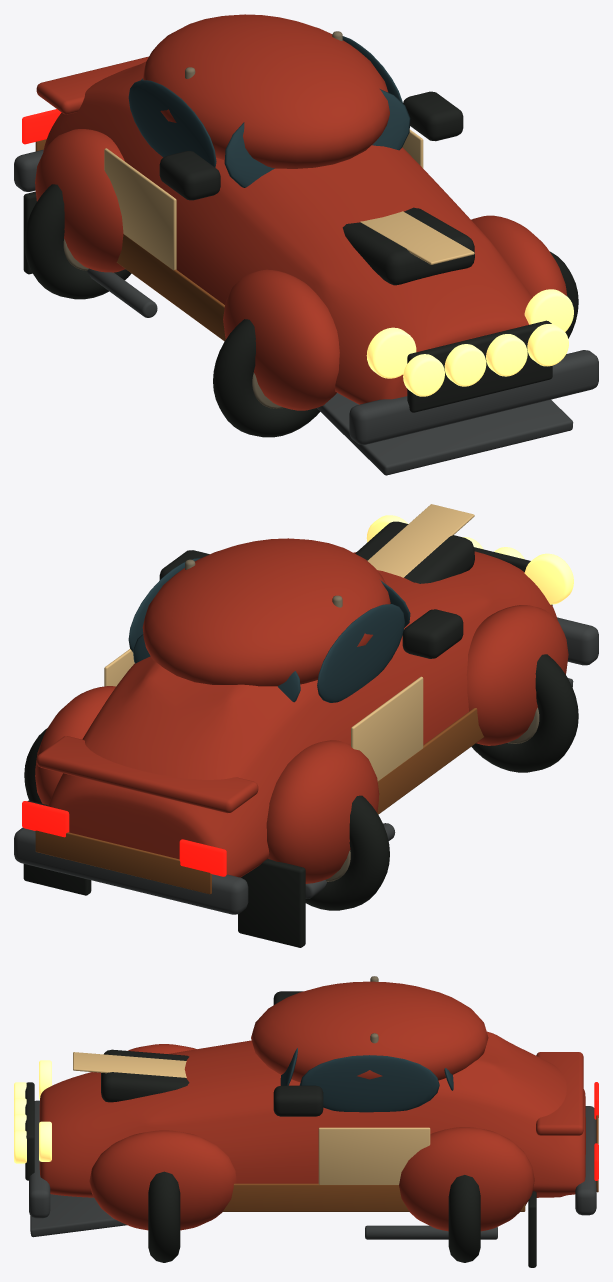
Rendered from desert_stallion_65.glb.
3 views of the same model, one above another, from view 1: azimuth 30°, elevation 25°; view 2: azimuth 150°, elevation 25°; view 3: azimuth 270°, elevation 25° (orthographic). The views are drawn at different scales.
Parts seen in each view (by area): view 1: Body_Shell, Cabin_Roof, Front_Fender, Rear_Fender, Skidplate, Front_Bumper, Wheel_0_Tire, Door_Livery, Wheel_2_Tire, Side_Glass, Hood_Scoop, Grille (+18 smaller); view 2: Body_Shell, Cabin_Roof, Rear_Fender, Front_Fender, Spoiler, Wheel_0_Tire, Side_Glass, Mudflap, Rear_Bumper, Rear_Dust, Wheel_2_Tire, Door_Livery (+14 smaller); view 3: Body_Shell, Cabin_Roof, Front_Fender.001, Rear_Fender.001, Side_Glass.001, Door_Livery.001, Lower_Dust.001, Wheel_1_Tire, Wheel_3_Tire, Spoiler, Skidplate, Hood_Scoop (+11 smaller).
Boxes of the visible parts, left/top/right/bottom form: Body_Shell: left=43, top=61, right=532, bottom=404; Cabin_Roof: left=143, top=14, right=389, bottom=168; Front_Fender: left=223, top=269, right=339, bottom=410; Rear_Fender: left=35, top=129, right=125, bottom=272; Skidplate: left=317, top=392, right=573, bottom=475; Front_Bumper: left=349, top=350, right=598, bottom=444; Wheel_0_Tire: left=213, top=319, right=320, bottom=437; Door_Livery: left=104, top=148, right=176, bottom=270; Wheel_2_Tire: left=24, top=184, right=131, bottom=299; Side_Glass: left=128, top=80, right=216, bottom=167; Hood_Scoop: left=342, top=207, right=474, bottom=285; Grille: left=407, top=320, right=552, bottom=412; Body_Shell: left=48, top=551, right=557, bottom=877; Cabin_Roof: left=142, top=538, right=390, bottom=686; Rear_Fender: left=266, top=740, right=379, bottom=883; Front_Fender: left=466, top=605, right=568, bottom=745; Spoiler: left=36, top=736, right=258, bottom=813; Wheel_0_Tire: left=471, top=654, right=578, bottom=772; Side_Glass: left=317, top=604, right=404, bottom=702; Mudflap: left=238, top=859, right=305, bottom=947; Rear_Bumper: left=14, top=827, right=248, bottom=914; Rear_Dust: left=35, top=830, right=211, bottom=894; Wheel_2_Tire: left=305, top=795, right=389, bottom=910; Door_Livery: left=351, top=676, right=423, bottom=781; Body_Shell: left=39, top=1031, right=585, bottom=1197; Cabin_Roof: left=251, top=981, right=488, bottom=1082; Front_Fender.001: left=89, top=1130, right=237, bottom=1230; Rear_Fender.001: left=399, top=1127, right=534, bottom=1231; Side_Glass.001: left=299, top=1055, right=439, bottom=1112; Door_Livery.001: left=318, top=1127, right=430, bottom=1184; Lower_Dust.001: left=222, top=1183, right=525, bottom=1211; Wheel_1_Tire: left=148, top=1171, right=180, bottom=1262; Wheel_3_Tire: left=448, top=1175, right=480, bottom=1262; Spoiler: left=536, top=1052, right=583, bottom=1135; Skidplate: left=30, top=1194, right=127, bottom=1237; Hood_Scoop: left=101, top=1049, right=189, bottom=1102.
Size of the model in its own units: 2.79 by 2.02 by 4.93.
